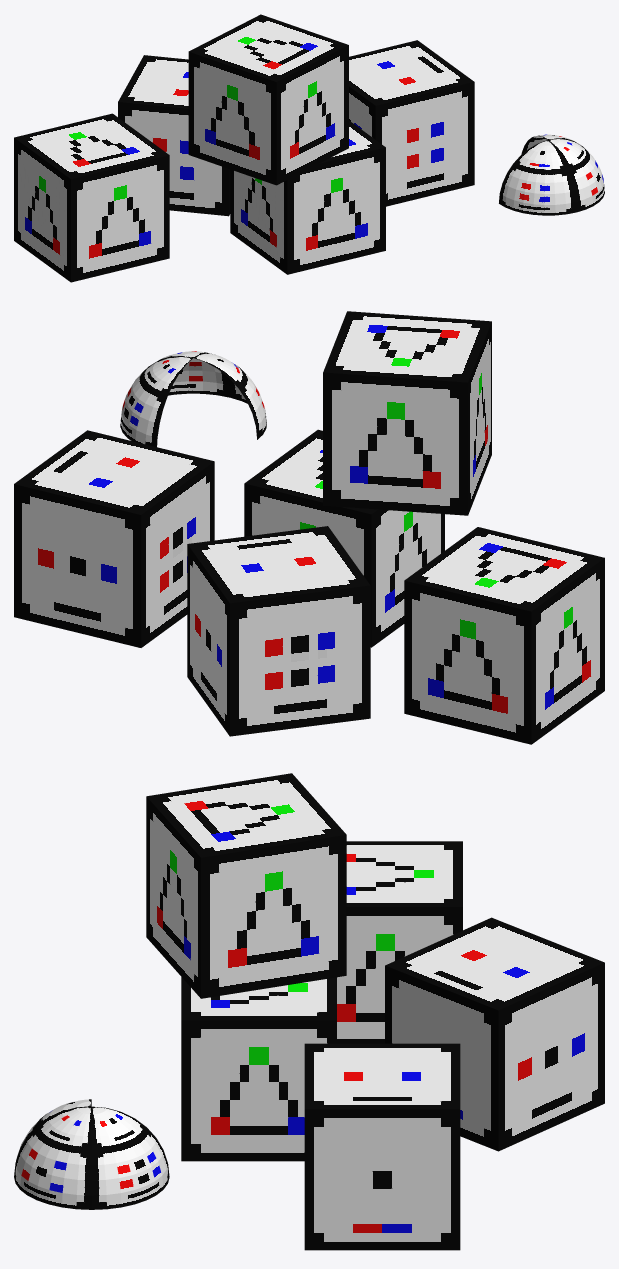
The model's file is sample.obj.
The picture shows the model from 3 angles, top to bottom: view 1: azimuth 30°, elevation 25°; view 2: azimuth 150°, elevation 25°; view 3: azimuth 270°, elevation 25°; orthographic projection. The views are drawn at different scales.
Parts seen in each view (by area): view 1: Box.002, Box.001, Dice.001, Box, Dice, Сфера; view 2: Box.001, Dice.001, Dice, Box.002, Box, Сфера; view 3: Box.002, Dice, Dice.001, Box, Box.001, Сфера.
Part boxes in pixels (bbox=[...]): Box.002: bbox=[188, 14, 348, 185]; Box.001: bbox=[14, 113, 169, 282]; Dice.001: bbox=[349, 40, 474, 206]; Box: bbox=[230, 120, 385, 274]; Dice: bbox=[118, 55, 230, 216]; Сфера: bbox=[499, 134, 604, 215]; Box.001: bbox=[404, 527, 604, 744]; Dice.001: bbox=[14, 430, 214, 647]; Dice: bbox=[187, 526, 370, 736]; Box.002: bbox=[323, 311, 491, 515]; Box: bbox=[244, 429, 444, 647]; Сфера: bbox=[120, 351, 266, 446]; Box.002: bbox=[146, 773, 346, 998]; Dice: bbox=[385, 917, 604, 1151]; Dice.001: bbox=[304, 1043, 460, 1250]; Box: bbox=[181, 977, 336, 1161]; Box.001: bbox=[337, 841, 462, 1043]; Сфера: bbox=[14, 1099, 169, 1209].
Bounding box in the file's own units: 9.07 × 4.02 × 7.6.
